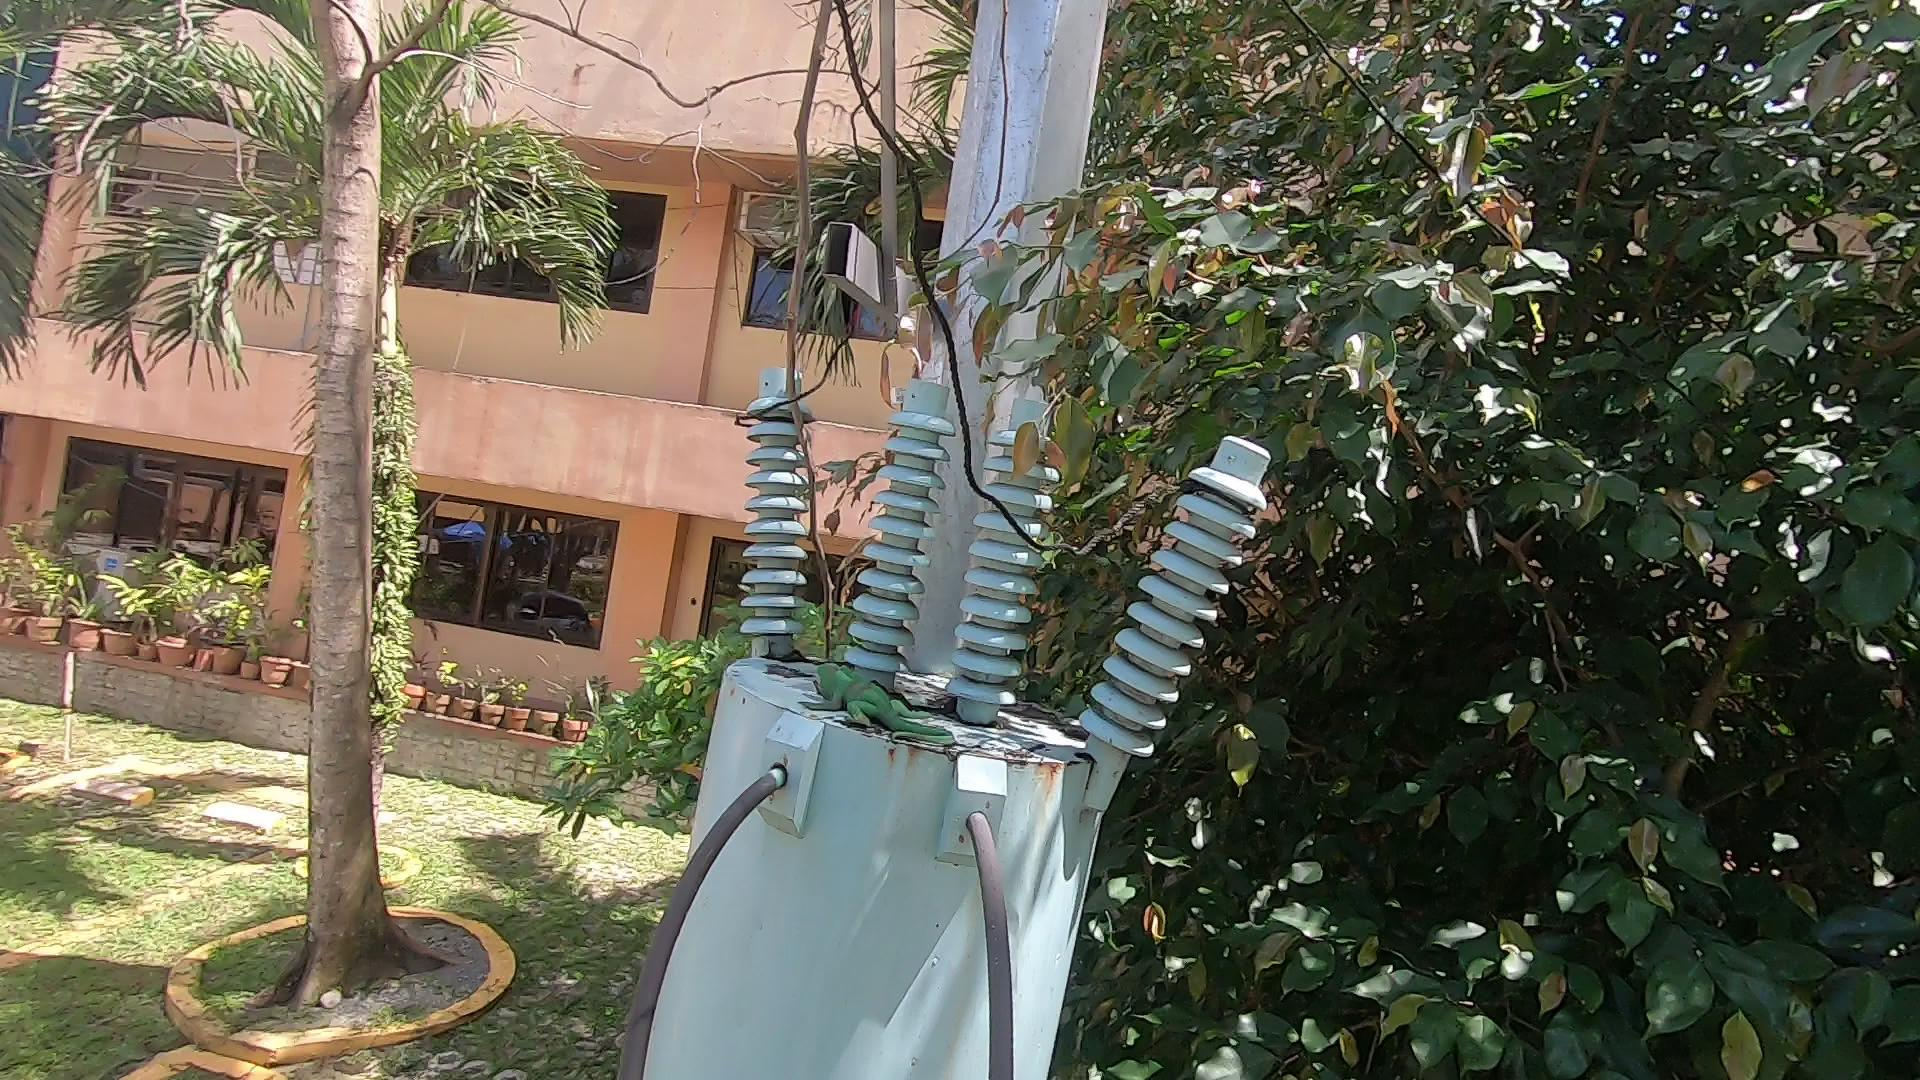branch with leaves: (1015, 305, 1154, 496)
leaf: (1004, 696, 1095, 742), (887, 684, 975, 725), (752, 636, 819, 669)
tree branch: (765, 5, 881, 644)
